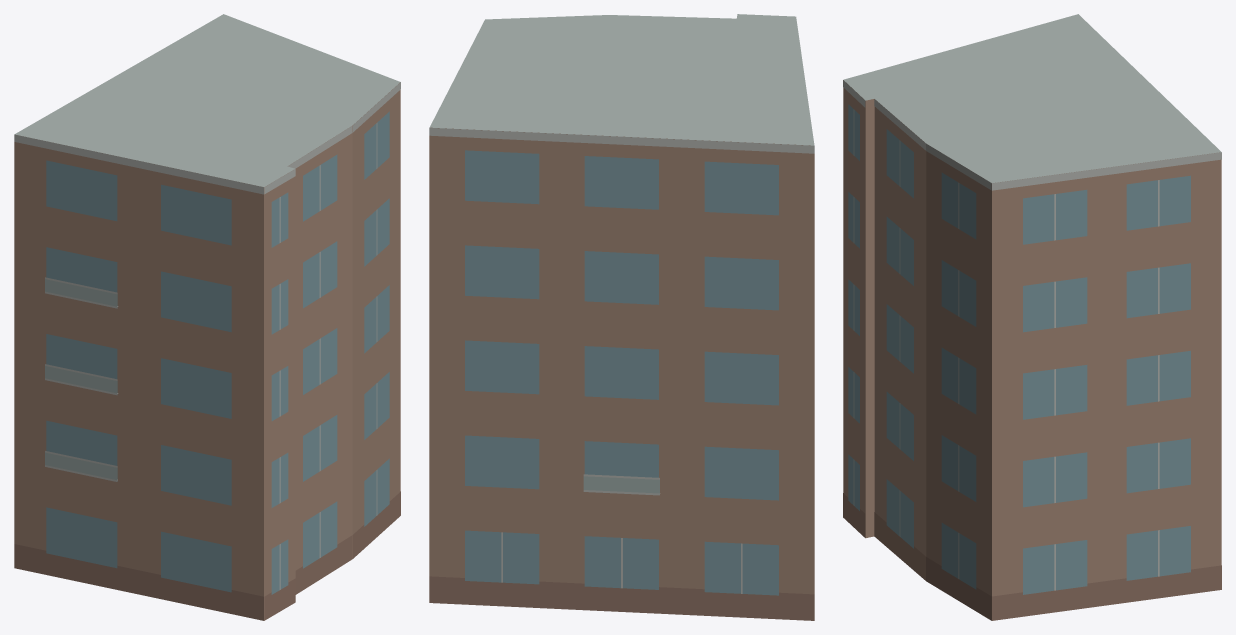
File: survey-upis-32688604.glb
The picture shows the model from 3 angles, left to right: view 1: azimuth 30°, elevation 25°; view 2: azimuth 150°, elevation 25°; view 3: azimuth 270°, elevation 25°; orthographic projection. The views are drawn at different scales.
Visible parts, largest first — view 1: survey-upis-32688604.tmp; view 2: survey-upis-32688604.tmp; view 3: survey-upis-32688604.tmp.
Boxes of the visible parts, left/top/right/bottom form: survey-upis-32688604.tmp: left=14, top=14, right=400, bottom=620; survey-upis-32688604.tmp: left=429, top=14, right=814, bottom=620; survey-upis-32688604.tmp: left=843, top=14, right=1221, bottom=620.
Size of the model in its own units: 11.87 by 14.3 by 11.22.
